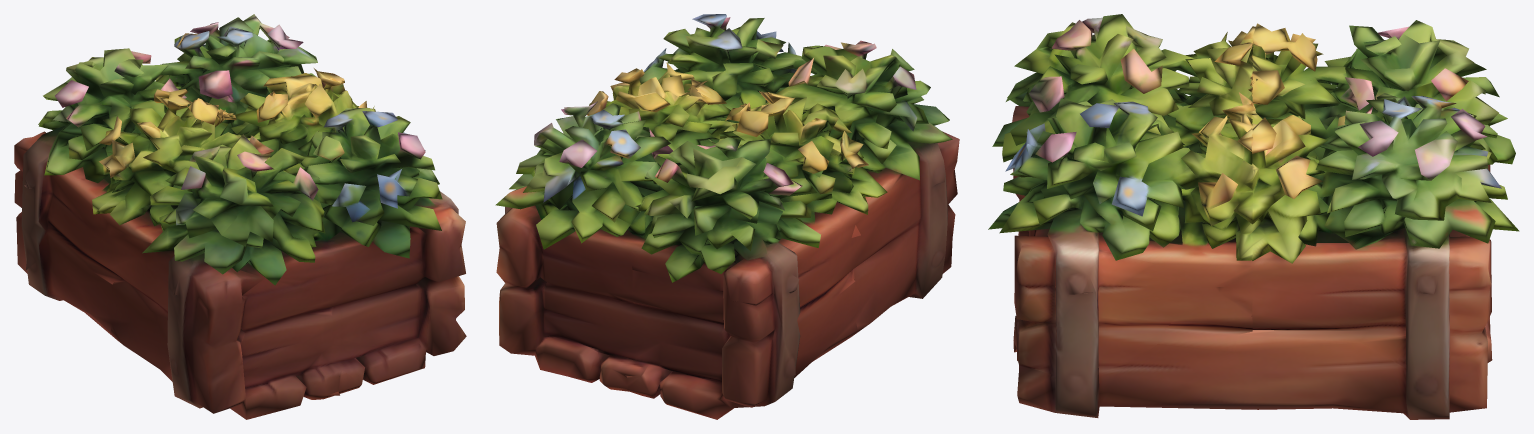
Rendered from flower_box_4k.glb.
3 views of the same model, side by side, from view 1: azimuth 30°, elevation 25°; view 2: azimuth 150°, elevation 25°; view 3: azimuth 270°, elevation 25° (orthographic). The views are drawn at different scales.
Visible parts, largest first — view 1: tripo_node_127b84db-80f0-4ea4-9fd6-6a07fc470ea1; view 2: tripo_node_127b84db-80f0-4ea4-9fd6-6a07fc470ea1; view 3: tripo_node_127b84db-80f0-4ea4-9fd6-6a07fc470ea1.
Part boxes in pixels (x1,y1,x2,y2): tripo_node_127b84db-80f0-4ea4-9fd6-6a07fc470ea1: [14, 14, 466, 419]; tripo_node_127b84db-80f0-4ea4-9fd6-6a07fc470ea1: [495, 14, 959, 419]; tripo_node_127b84db-80f0-4ea4-9fd6-6a07fc470ea1: [988, 14, 1519, 419].
Size of the model in its own units: 0.7566 by 0.6106 by 0.9923.
1 material, 1 textured.
